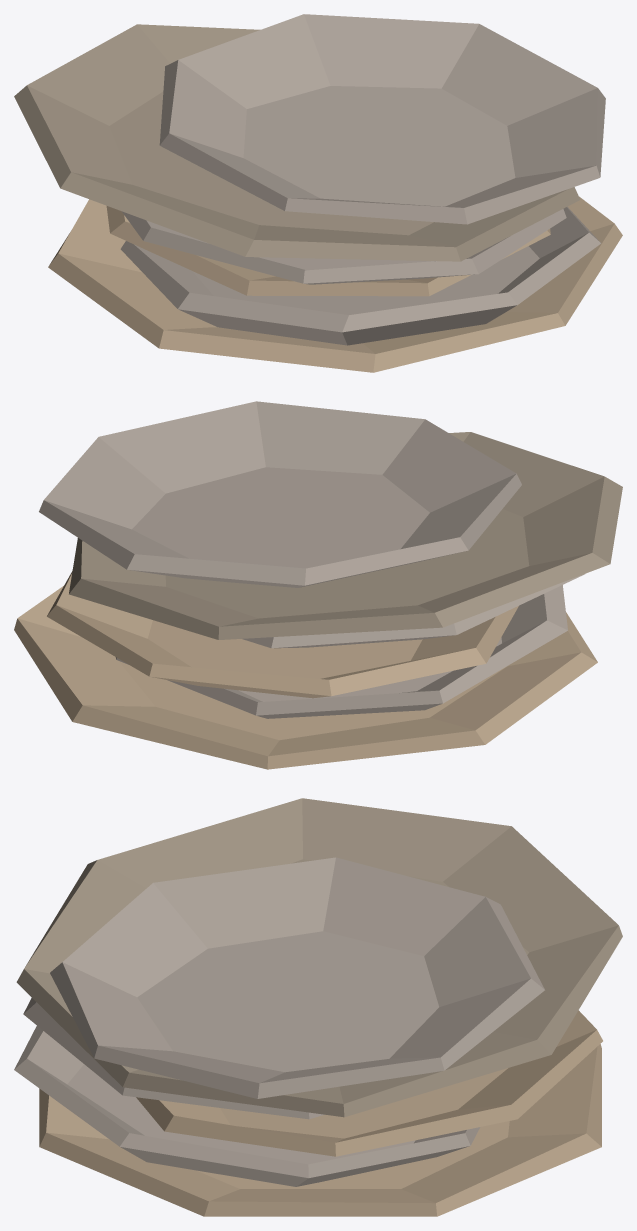
File: SM_Plates.fbx
3 renders of one model, top to bottom at view 1: azimuth 30°, elevation 25°; view 2: azimuth 150°, elevation 25°; view 3: azimuth 270°, elevation 25°, orthographic. The views are drawn at different scales.
Parts seen in each view (by area): view 1: SM_Plates; view 2: SM_Plates; view 3: SM_Plates.
Boxes of the visible parts, x1,y1,x2,y2 form: SM_Plates: [14, 14, 622, 372]; SM_Plates: [14, 401, 622, 769]; SM_Plates: [14, 798, 622, 1216].
Size of the model in its own units: 48.34 by 15.21 by 45.99.
